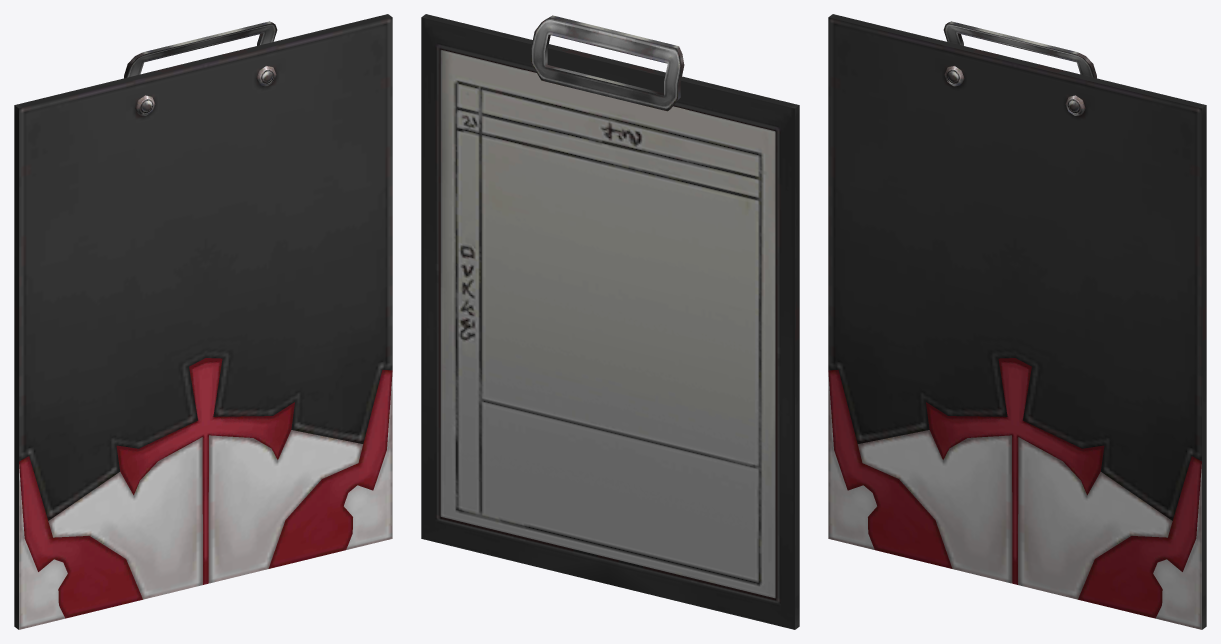
File: Hero_Veronica_Cos18Halloween_Weapon_L.fbx
The picture shows the model from 3 angles, left to right: view 1: azimuth 30°, elevation 25°; view 2: azimuth 150°, elevation 25°; view 3: azimuth 330°, elevation 25°; orthographic projection.
Parts seen in each view (by area): view 1: Hero_Veronica_Cos18Halloween_Weapon_L; view 2: Hero_Veronica_Cos18Halloween_Weapon_L; view 3: Hero_Veronica_Cos18Halloween_Weapon_L.
Boxes of the visible parts, x1,y1,x2,y2 form: Hero_Veronica_Cos18Halloween_Weapon_L: (14, 14, 392, 629); Hero_Veronica_Cos18Halloween_Weapon_L: (421, 14, 799, 629); Hero_Veronica_Cos18Halloween_Weapon_L: (828, 14, 1206, 629).
Bounding box in the file's own units: 0.2096 × 0.2937 × 0.011.
Materials: 1 (1 with a texture image).
